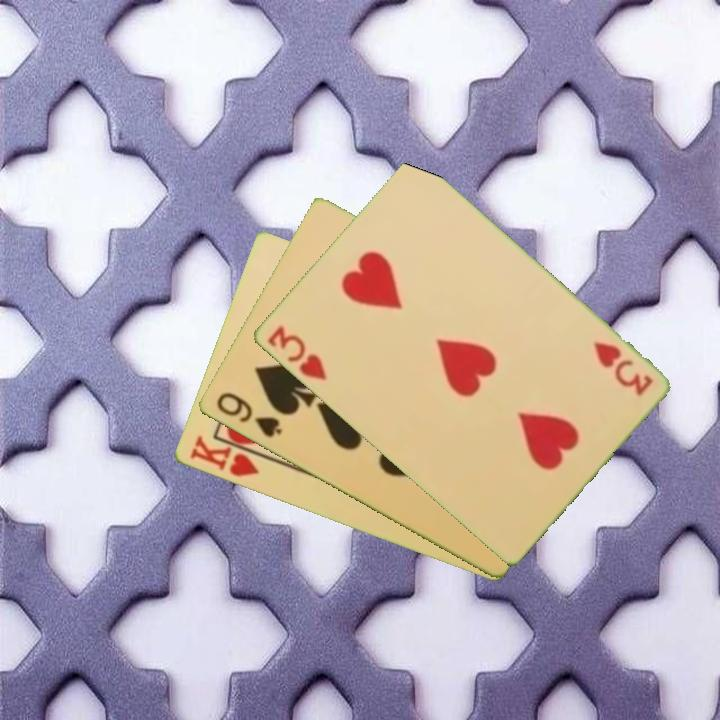3h: (263, 322, 329, 384), (589, 338, 655, 400)
9s: (212, 388, 285, 441)
Kh: (186, 432, 271, 480)
